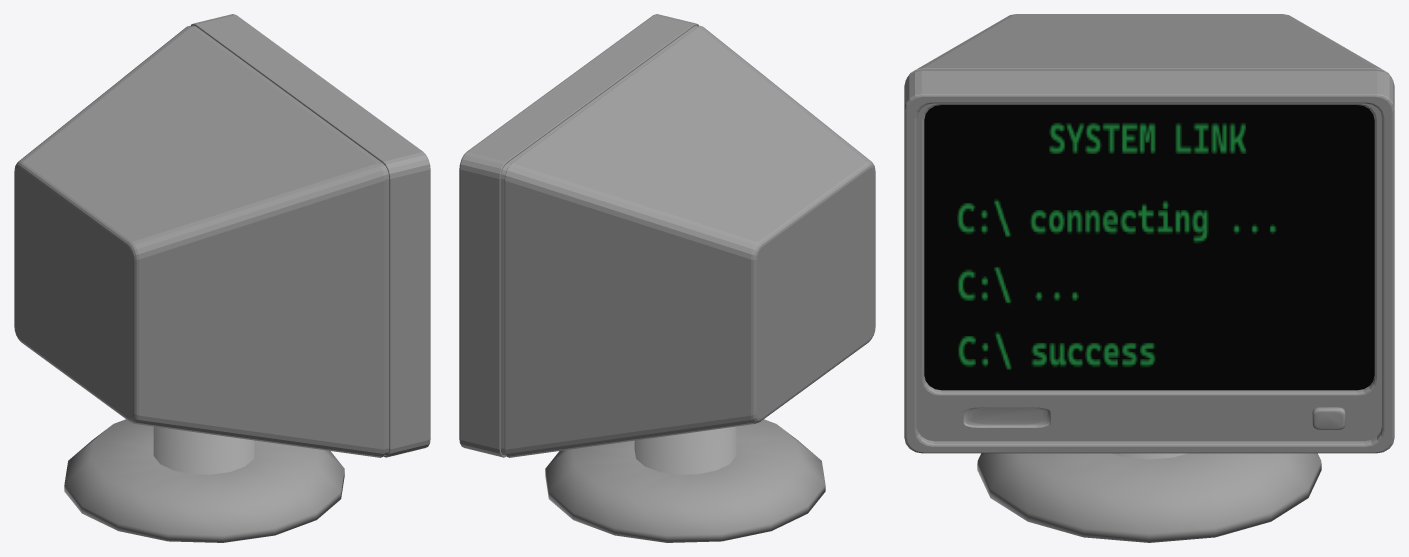
Rendered from monitor.fbx.
The picture shows the model from 3 angles, left to right: view 1: azimuth 30°, elevation 25°; view 2: azimuth 150°, elevation 25°; view 3: azimuth 270°, elevation 25°; orthographic projection. The views are drawn at different scales.
Visible parts, largest first — view 1: Cube.001; view 2: Cube.001; view 3: Cube.001.
Boxes of the visible parts, box(x1,y1,x2,y2) form: Cube.001: box(14, 14, 430, 542); Cube.001: box(459, 14, 875, 542); Cube.001: box(904, 14, 1394, 542).
Size of the model in its own units: 147 by 203 by 200.
2 materials, 1 textured.
